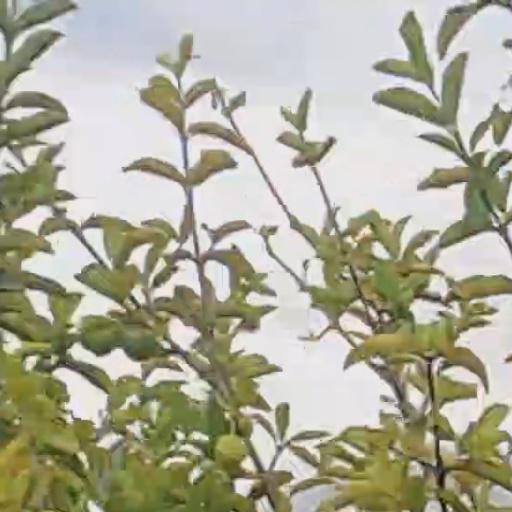acerola_verde: (120, 330, 157, 359), (215, 436, 247, 466), (85, 327, 113, 353)
